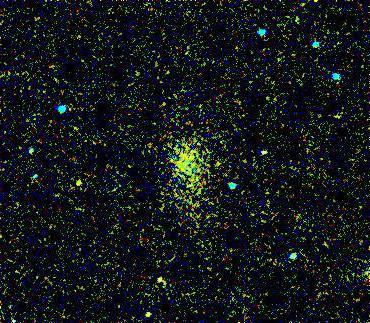star: (65, 169, 95, 199)
